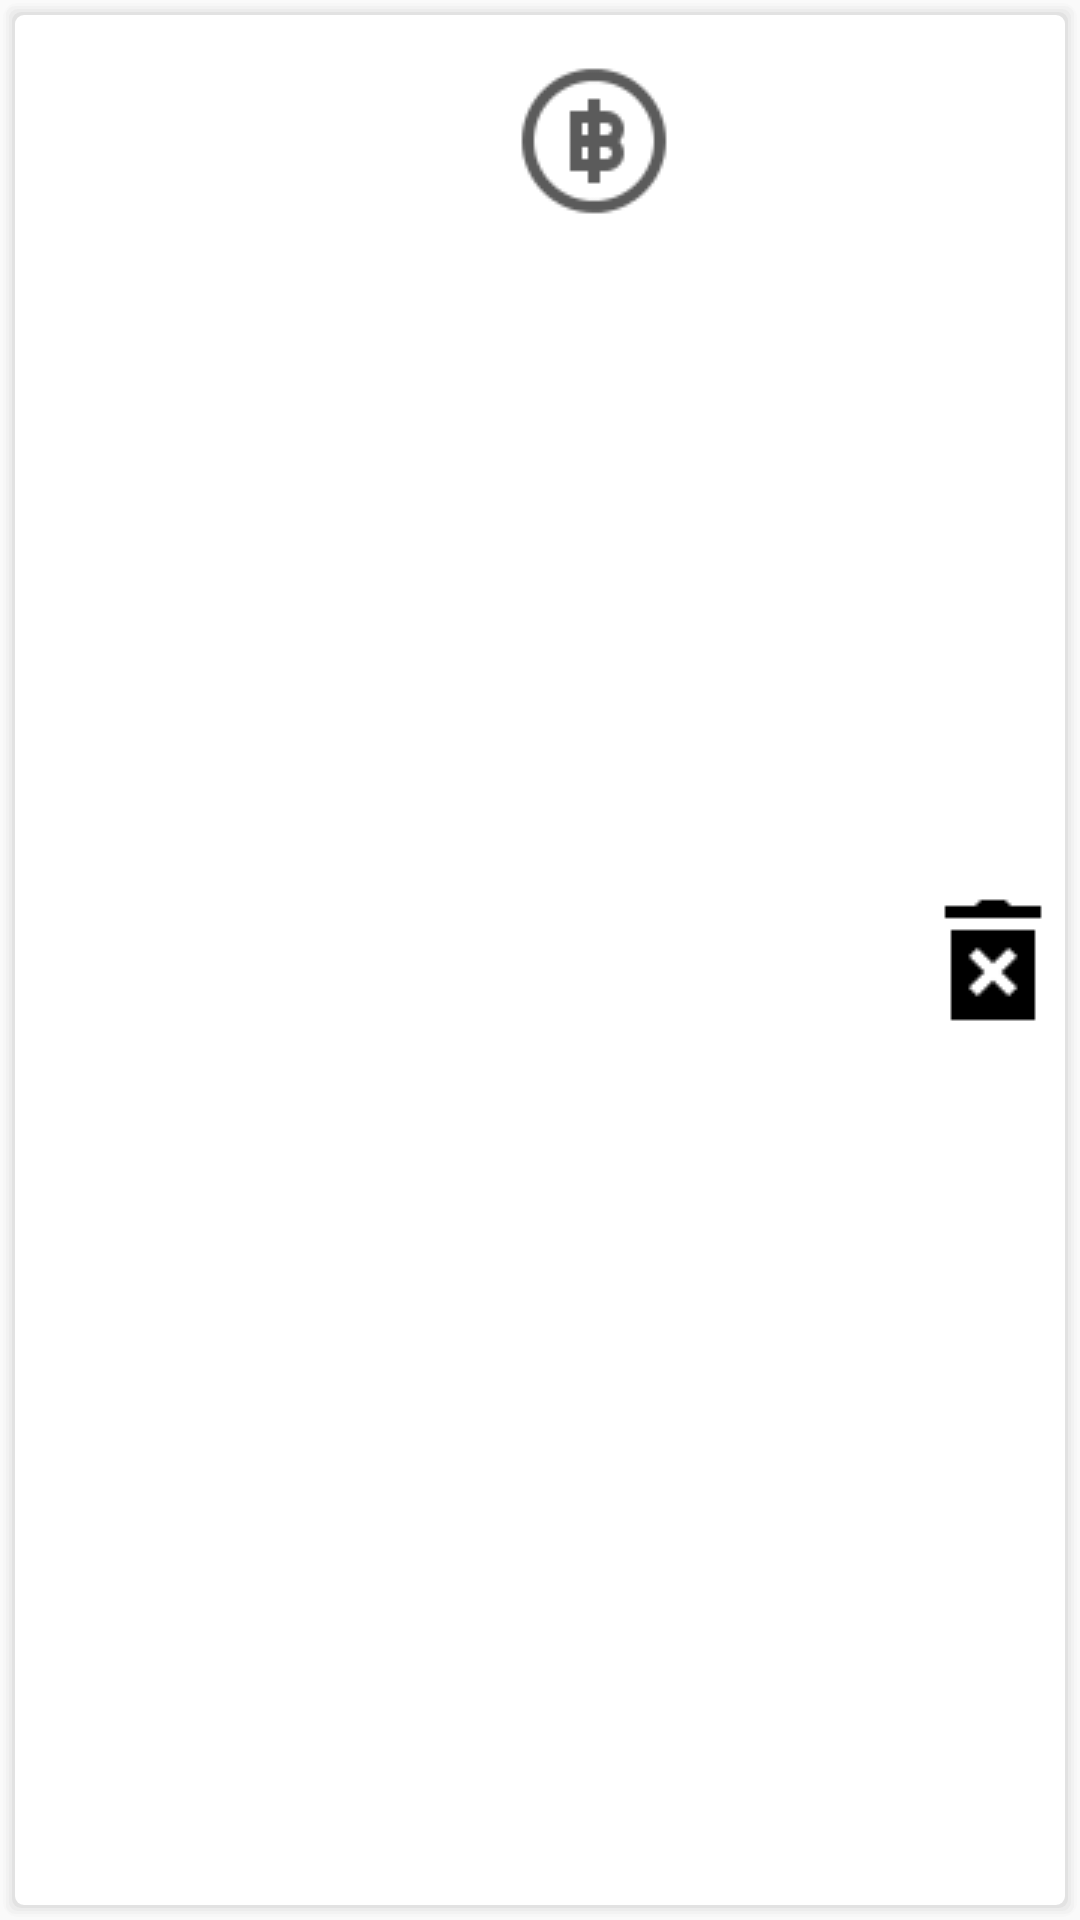

Named icons in this screenshot (1080×1920) and their centers, (x=x, y=y):
delete bin: (x=993, y=960)
